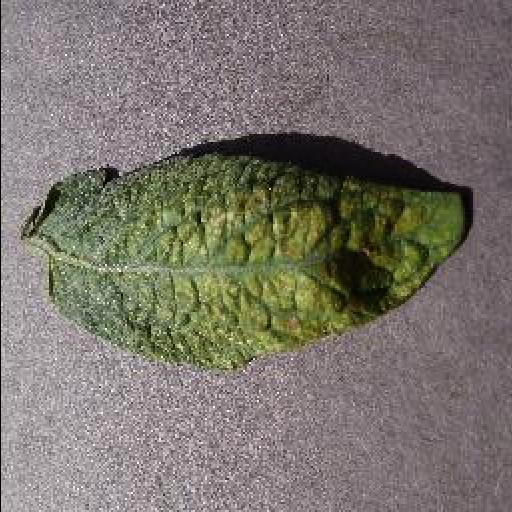disease_tomato: (42, 154, 466, 370)
